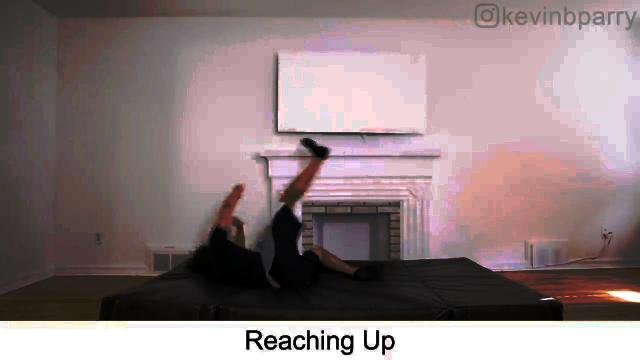jatuh: (150, 129, 386, 303)
